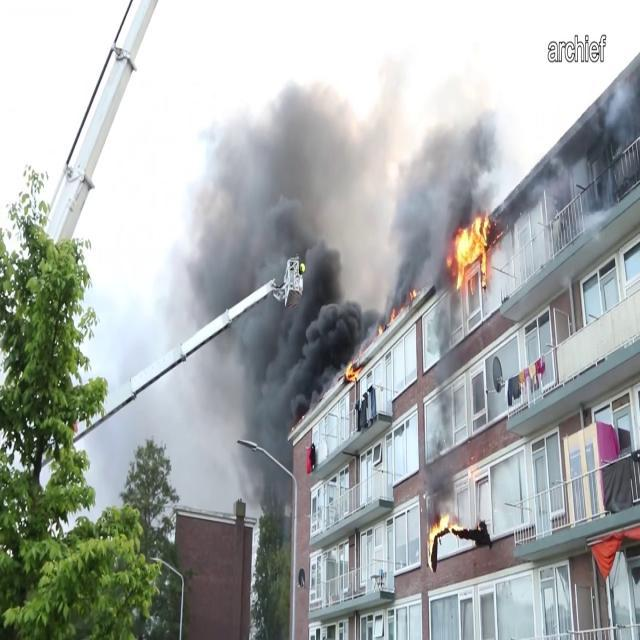Fire: (446, 208, 496, 300), (422, 514, 454, 562)
Smoke: (128, 47, 485, 414)
